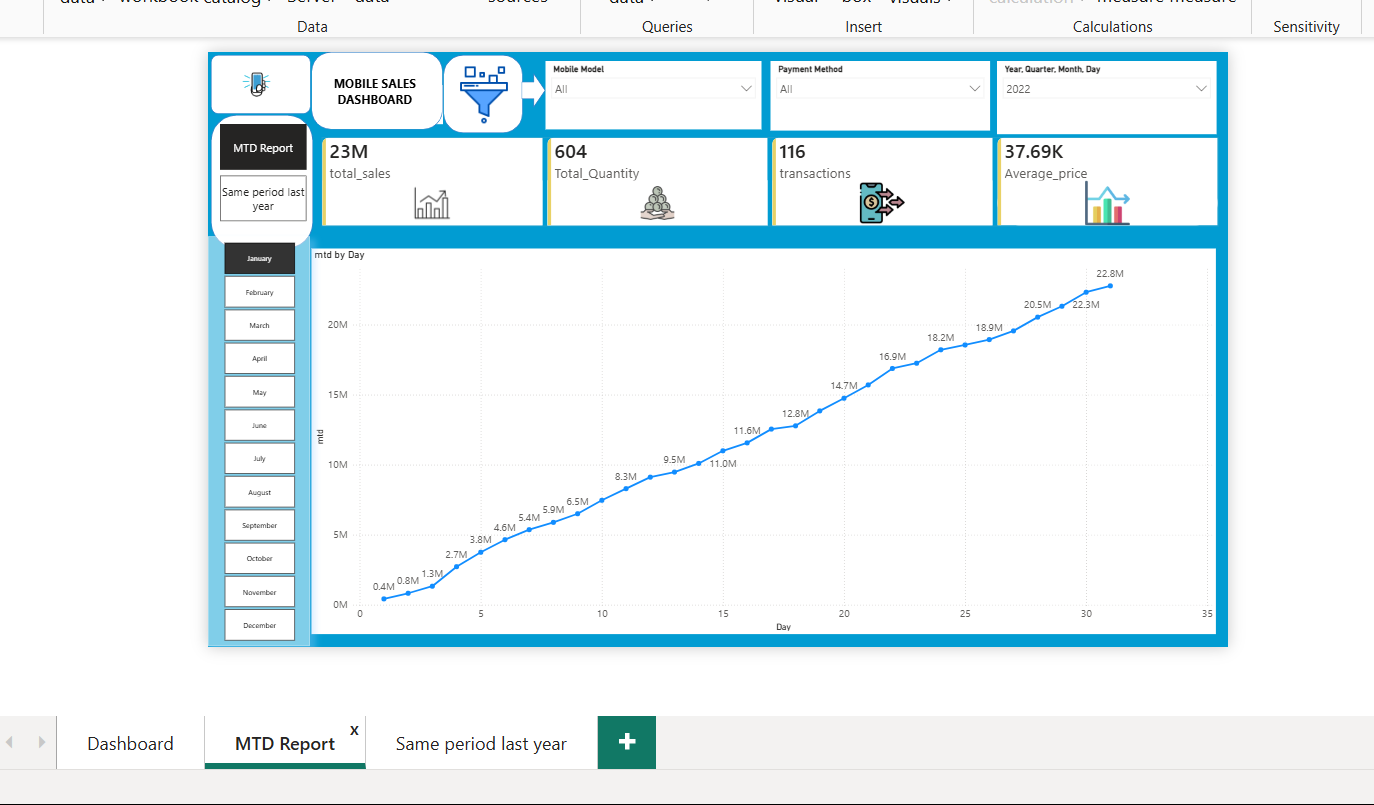

This screenshot's page, from the dashboard's own definition file:
{"tool":"powerbi","page":{"name":"MTD Report ","canvas":[1701,991],"ordinal":1},"visuals":[{"type":"shape","box":[6,6,166,98],"z":0},{"type":"image","box":[28,12,106.6,87.5],"z":1000},{"type":"shape","box":[6,104,170,222],"z":2000},{"type":"cardVisual","fields":{"Data":["mobile_sales_data.total_sales","mobile_sales_data.Total_Quantity","mobile_sales_data.transactions","mobile_sales_data.Average_price"]},"box":[172,124,1530,182],"z":3000},{"type":"slicer","fields":{"Values":["mobile_sales_data.Mobile Model"]},"box":[562,14,360,114],"z":4000},{"type":"slicer","fields":{"Values":["mobile_sales_data.Payment Method"]},"box":[938,16,366,116],"z":5000},{"type":"slicer","fields":{"Values":["Custom_Calendar.Date.Variation.Date Hierarchy.Year","Custom_Calendar.Date.Variation.Date Hierarchy.Quarter","Custom_Calendar.Date.Variation.Date Hierarchy.Month","Custom_Calendar.Date.Variation.Date Hierarchy.Day"]},"box":[1314,14,366,122],"z":6000},{"type":"shape","box":[392,6,132,130],"z":7000},{"type":"image","box":[404,22,110,98],"z":8000},{"type":"textbox","box":[204,54,186.9,65.6],"z":9000},{"type":"shape","box":[172,0,218.7,129.2],"z":10000},{"type":"shape","box":[522,34,40,58],"z":11000},{"type":"lineChart","fields":{"Y":["mobile_sales_data.mtd"],"Category":["Custom_Calendar.Date.Variation.Date Hierarchy.Year","Custom_Calendar.Date.Variation.Date Hierarchy.Quarter","Custom_Calendar.Date.Variation.Date Hierarchy.Month","Custom_Calendar.Date.Variation.Date Hierarchy.Day"]},"box":[172.5,327.5,1507.5,642.5],"z":12000},{"type":"slicer","fields":{"Values":["Custom_Calendar.Date.Variation.Date Hierarchy.Month"]},"box":[0,307.5,170,682.5],"z":13000},{"type":"pageNavigator","box":[20,120,144,162],"z":14000},{"type":"actionButton","box":[190,22,176,84],"z":15000}]}

Visuals, with their boxes on the page's 1701x991 design canvas (x1, y1, x2, y2). These are canvas units, not pixel positions in the 1374x805 screenshot, which may show the page scaled, cropped or inside an application window:
shape: rect(6, 6, 172, 104)
image: rect(28, 12, 135, 100)
shape: rect(6, 104, 176, 326)
cardVisual - mobile_sales_data.total_sales x mobile_sales_data.Total_Quantity: rect(172, 124, 1702, 306)
slicer - mobile_sales_data.Mobile Model: rect(562, 14, 922, 128)
slicer - mobile_sales_data.Payment Method: rect(938, 16, 1304, 132)
slicer - Custom_Calendar.Date.Variation.Date Hierarchy.Year x Custom_Calendar.Date.Variation.Date Hierarchy.Quarter: rect(1314, 14, 1680, 136)
shape: rect(392, 6, 524, 136)
image: rect(404, 22, 514, 120)
textbox: rect(204, 54, 391, 120)
shape: rect(172, 0, 391, 129)
shape: rect(522, 34, 562, 92)
lineChart - mobile_sales_data.mtd x Custom_Calendar.Date.Variation.Date Hierarchy.Year: rect(172, 328, 1680, 970)
slicer - Custom_Calendar.Date.Variation.Date Hierarchy.Month: rect(0, 308, 170, 990)
pageNavigator: rect(20, 120, 164, 282)
actionButton: rect(190, 22, 366, 106)
